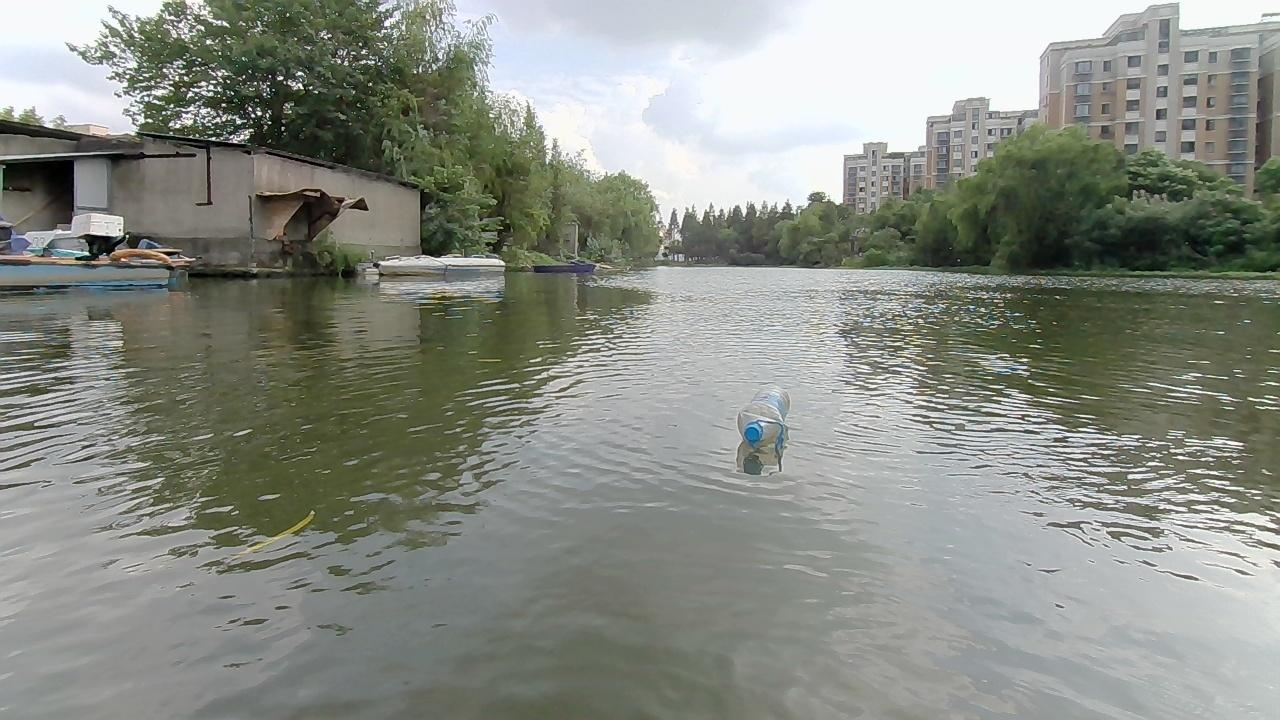bottle: (734, 377, 793, 450)
